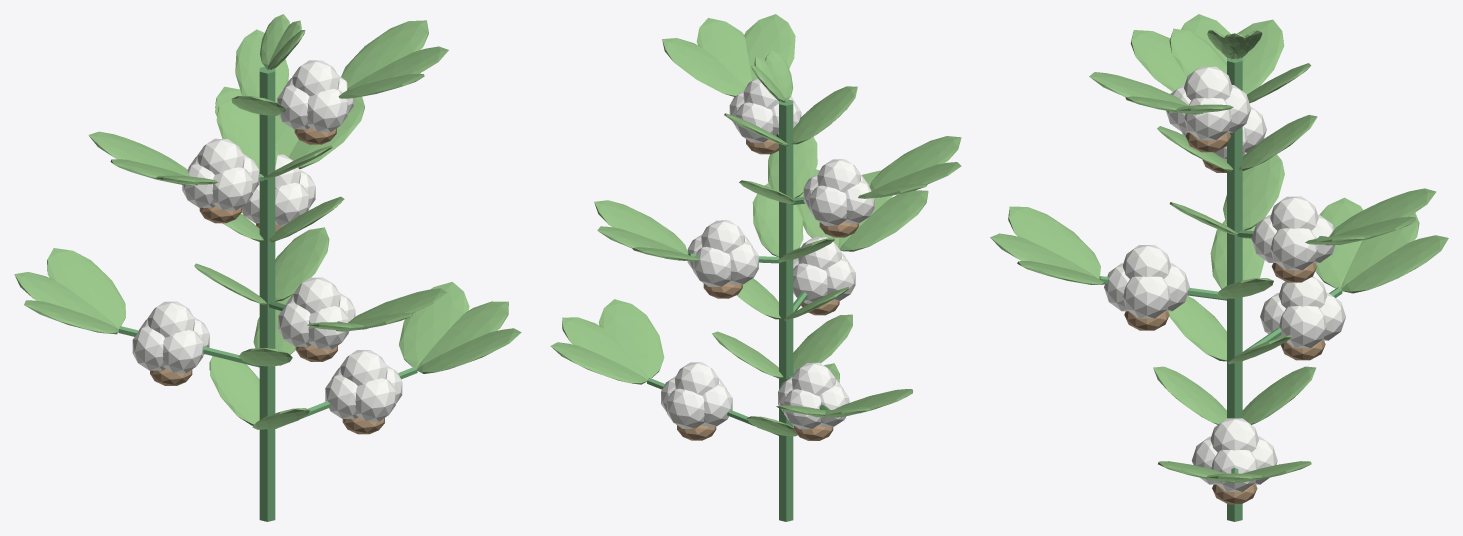
The model's file is algodon.glb.
3 renders of one model, left to right at view 1: azimuth 30°, elevation 25°; view 2: azimuth 150°, elevation 25°; view 3: azimuth 270°, elevation 25°, orthographic. The views are drawn at different scales.
Visible parts, largest first — view 1: verde, blanco, verde_osc, cafe; view 2: verde, blanco, verde_osc, cafe; view 3: verde, blanco, verde_osc, cafe.
Part boxes in pixels (x1,y1,x2,y2): verde: [14, 14, 521, 429]; blanco: [132, 60, 402, 421]; verde_osc: [118, 66, 417, 521]; cafe: [150, 127, 384, 434]; verde: [550, 14, 961, 436]; blanco: [661, 77, 874, 429]; verde_osc: [647, 99, 840, 521]; cafe: [677, 139, 858, 440]; verde: [990, 14, 1448, 482]; blanco: [1104, 66, 1345, 491]; verde_osc: [1099, 57, 1342, 521]; cafe: [1124, 132, 1325, 504].
Bounding box in the file's own units: 1.01 × 1.09 × 0.9061.
